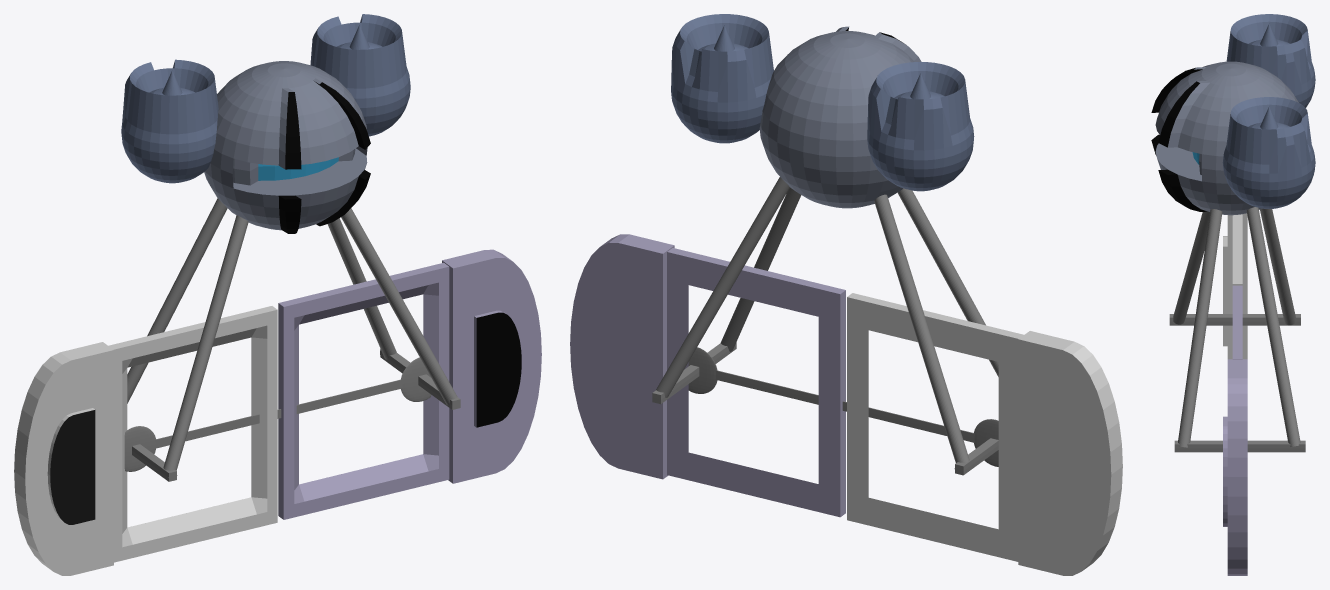
File: adamantium.fbx
3 views of the same model, side by side, from view 1: azimuth 30°, elevation 25°; view 2: azimuth 150°, elevation 25°; view 3: azimuth 270°, elevation 25° (orthographic). The views are drawn at different scales.
Parts seen in each view (by area): view 1: Shield Left, Shield Right, Cockpit, Engines, Pivot Bar; view 2: Shield Left, Shield Right, Engines, Cockpit, Pivot Bar; view 3: Engines, Cockpit, Pivot Bar, Shield Right, Shield Left.
Boxes of the visible parts, bbox=[...] form: Shield Left: bbox=[14, 306, 277, 575]; Shield Right: bbox=[278, 249, 541, 519]; Cockpit: bbox=[204, 61, 370, 233]; Engines: bbox=[121, 14, 410, 183]; Pivot Bar: bbox=[124, 198, 460, 481]; Shield Left: bbox=[847, 293, 1122, 575]; Shield Right: bbox=[570, 234, 845, 517]; Engines: bbox=[671, 14, 974, 191]; Cockpit: bbox=[759, 26, 921, 208]; Pivot Bar: bbox=[652, 177, 998, 475]; Engines: bbox=[1222, 14, 1315, 208]; Cockpit: bbox=[1151, 61, 1298, 215]; Pivot Bar: bbox=[1169, 207, 1305, 452]; Shield Right: bbox=[1223, 285, 1247, 575]; Shield Left: bbox=[1223, 213, 1247, 359].
Size of the model in its own units: 704 by 599 by 214.
